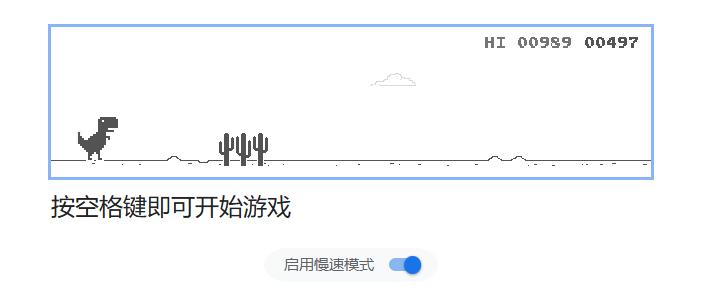cactus: (219, 131, 268, 167)
dino: (74, 112, 122, 162)
